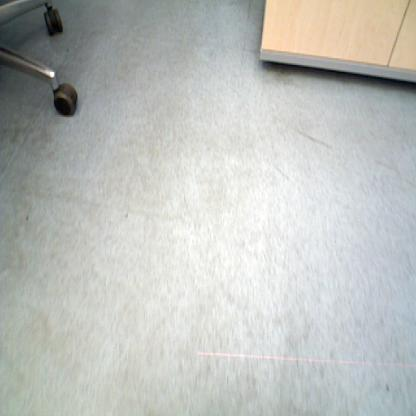mark: (295, 127, 331, 148), (273, 164, 289, 179), (374, 158, 393, 170), (384, 383, 392, 394), (124, 211, 131, 221), (24, 214, 31, 222), (65, 48, 70, 54)
